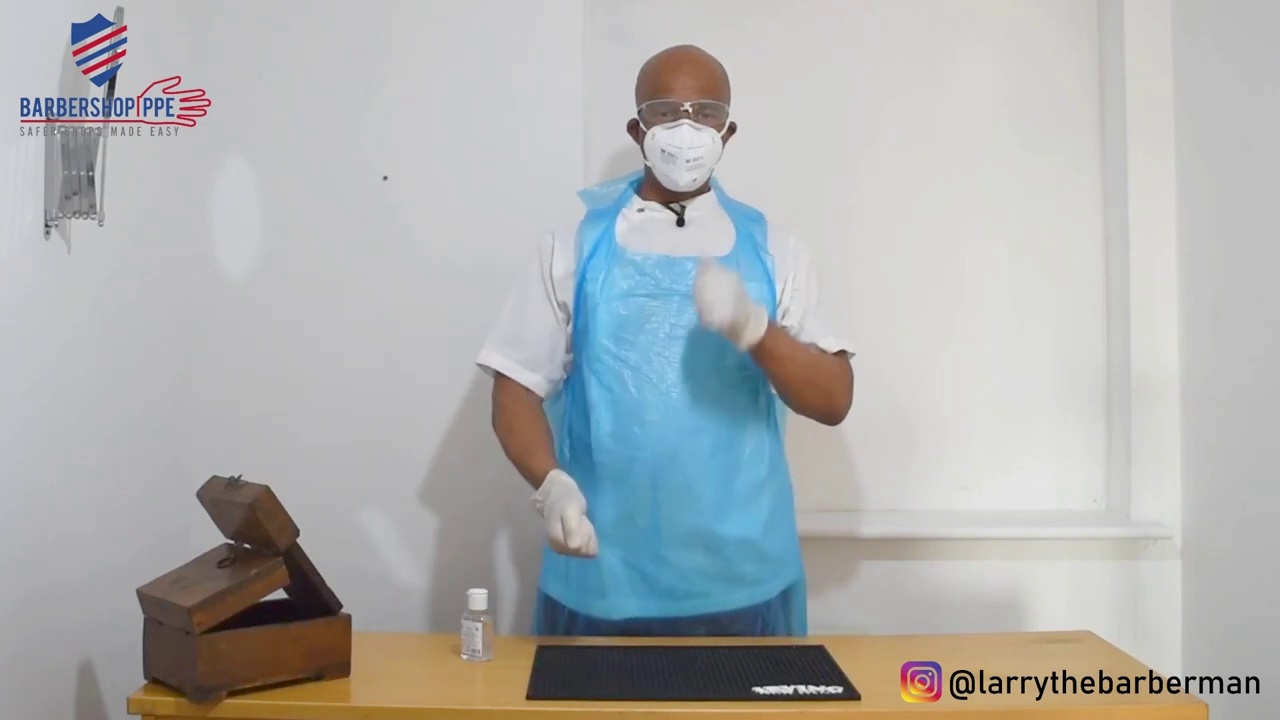Apron: (561, 170, 783, 641)
Glove: (688, 244, 776, 356), (526, 472, 608, 561)
Mask: (624, 119, 733, 190)
No_Hairnet: (629, 41, 739, 97)
